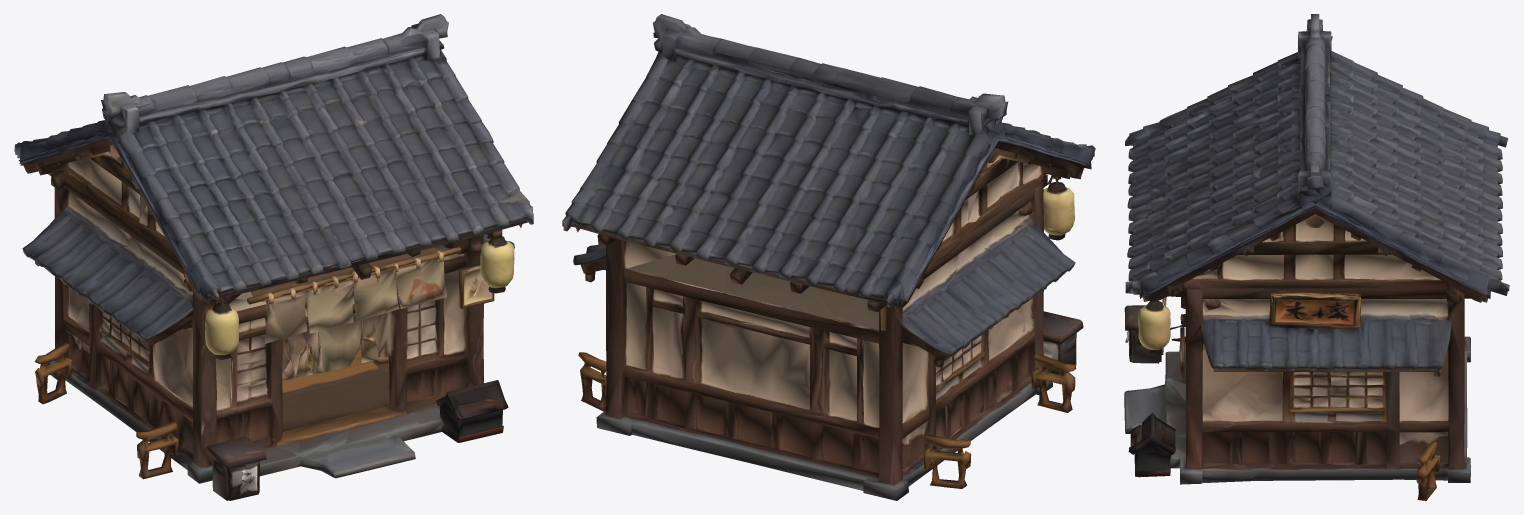
Rendered from bld_japan_shop1f.fbx.
3 renders of one model, left to right at view 1: azimuth 30°, elevation 25°; view 2: azimuth 150°, elevation 25°; view 3: azimuth 270°, elevation 25°, orthographic. The views are drawn at different scales.
Visible parts, largest first — view 1: bld_japan_shop1f_LOD0; view 2: bld_japan_shop1f_LOD0; view 3: bld_japan_shop1f_LOD0.
Part boxes in pixels (left/top/right/bottom): bld_japan_shop1f_LOD0: left=14, top=14, right=533, bottom=500; bld_japan_shop1f_LOD0: left=562, top=14, right=1095, bottom=500; bld_japan_shop1f_LOD0: left=1124, top=14, right=1509, bottom=500.
Size of what is drawn, in the model's own units: 0.9833 by 0.8531 by 0.9152.
